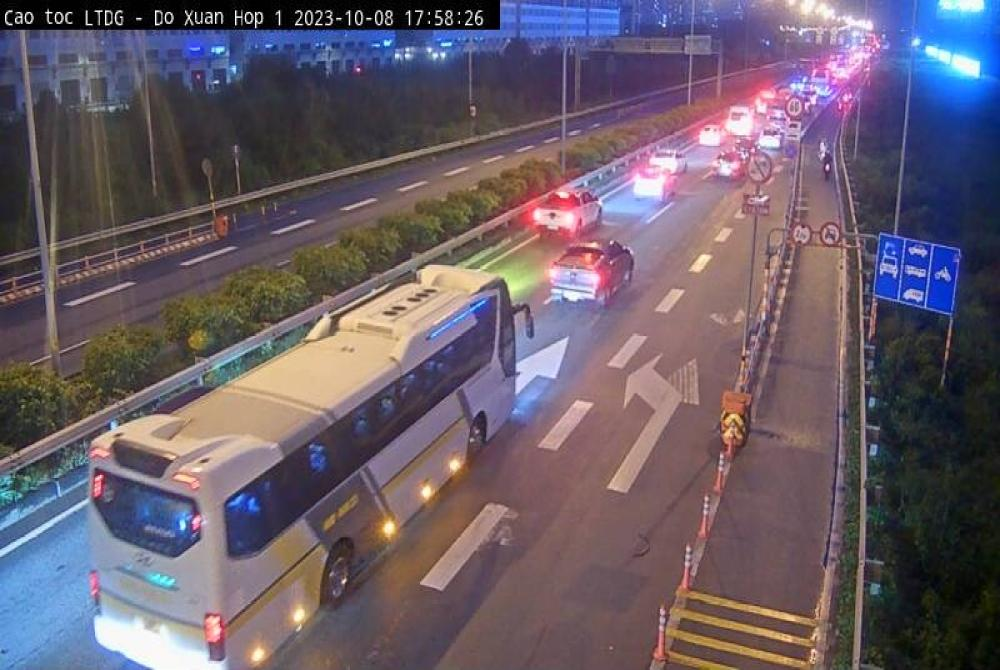bus: (77, 253, 540, 670)
car: (547, 236, 639, 315), (529, 184, 602, 236), (631, 160, 681, 224), (638, 140, 696, 182), (709, 140, 757, 184), (693, 115, 722, 154)
